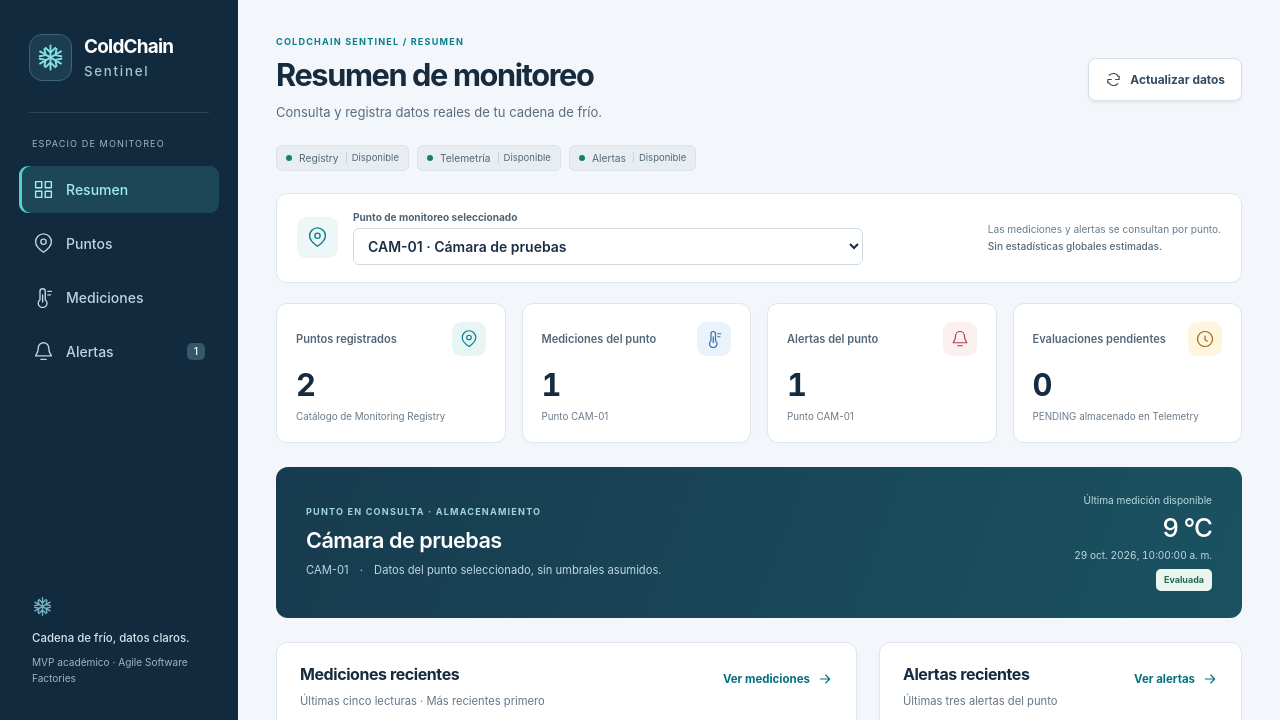
it: dashboard y navegación › cambia el contexto sin mostrar datos del punto anterior
expect the heading "Cámara de pruebas" is shown: met, box [306,527,502,553]
Select "TR-02 · Transporte de pruebas" in the dropdown labelled "Punto de monitoreo seleccionado" at (608, 246), box [353,228,863,265]
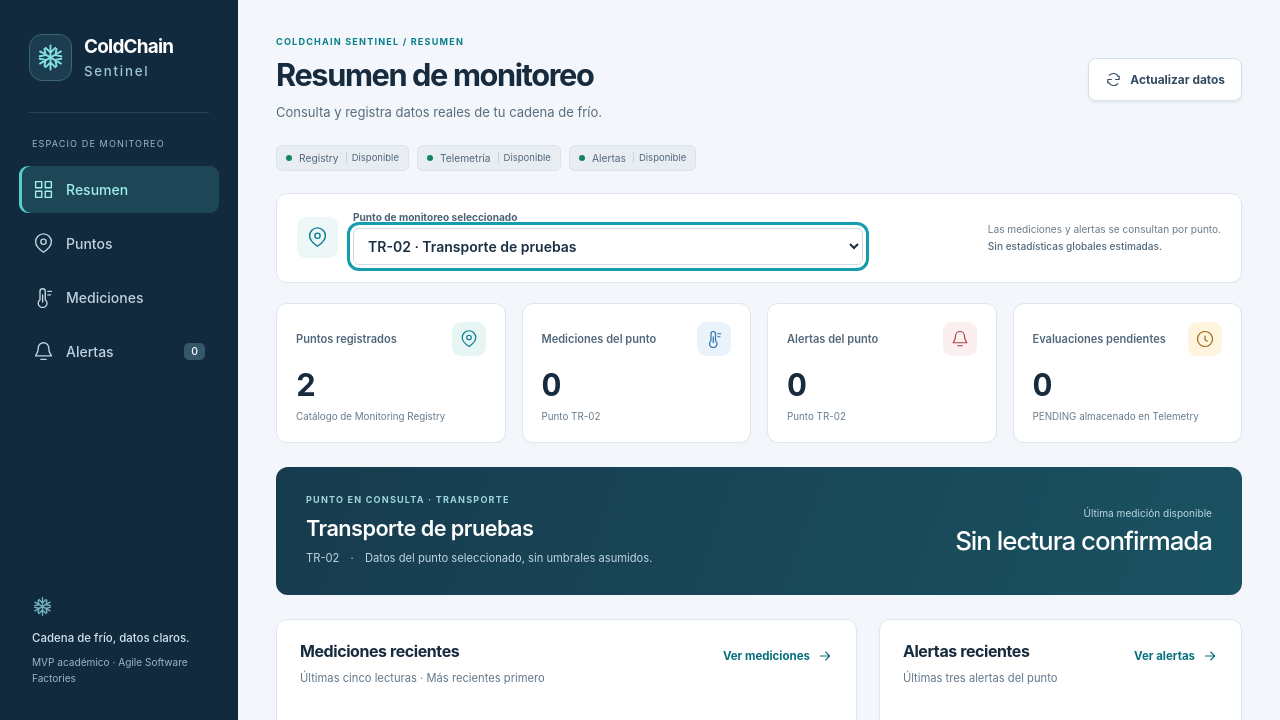
expect the text "0" below "Mediciones del punto" is shown: met, box [542,366,560,403]
